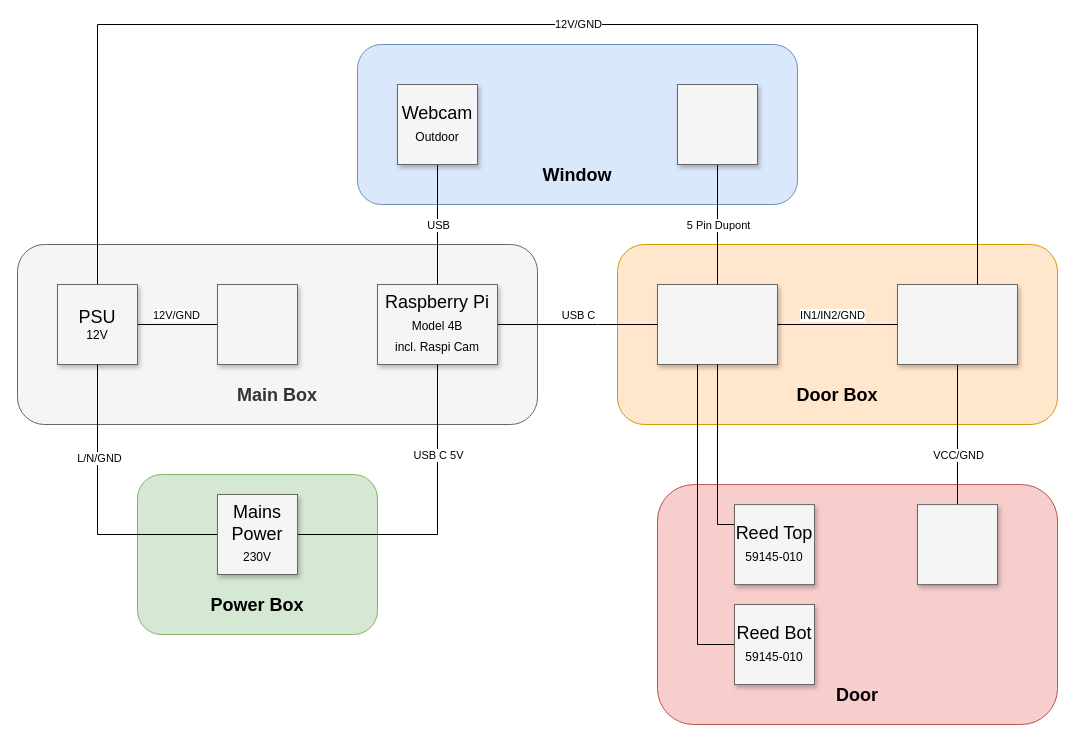
Some shapes in this 1075 by 742 pixel diagram are drawn without their labels. The shapes that lost their labels are listed below. From the top down, each one's centre as x and y in pixels, then its label:
the point at 718,126: Lux Sensor VEML7700
the point at 258,326: IR LEDs
the point at 718,326: Door PCB
the point at 958,326: Motor Control Joy-It Motodriver 2
the point at 958,546: DC Motor 24V 125RPM
